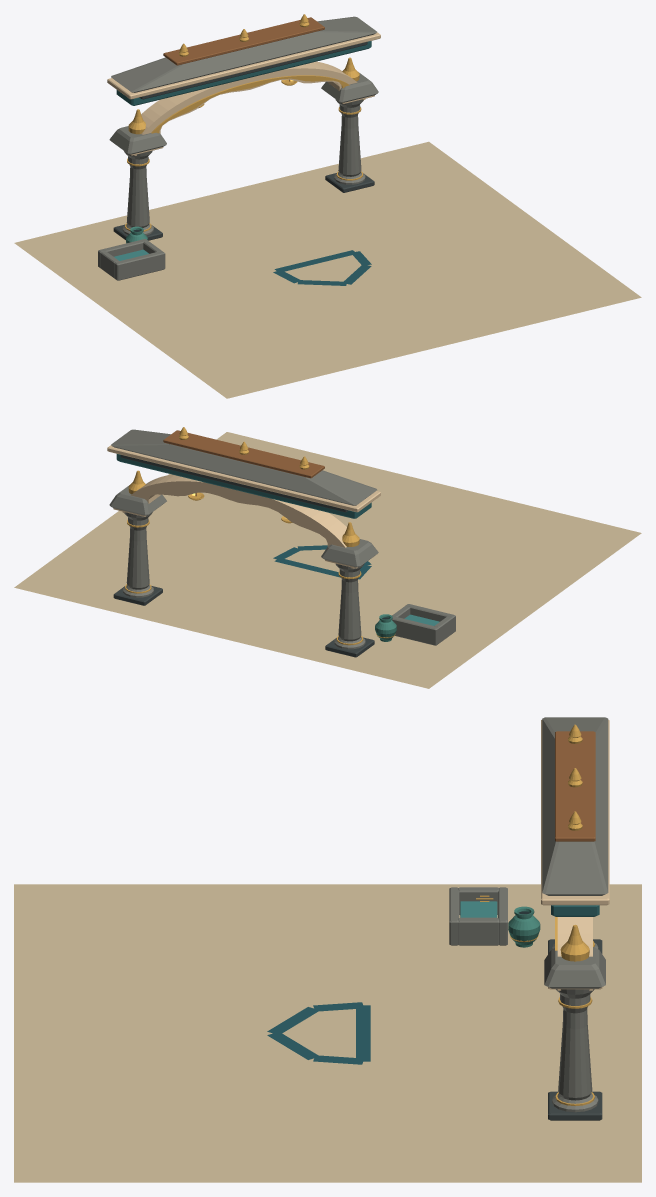
File: room-def.glb
3 views of the same model, one above another, from view 1: azimuth 30°, elevation 25°; view 2: azimuth 150°, elevation 25°; view 3: azimuth 270°, elevation 25° (orthographic). The views are drawn at different scales.
Visible parts, largest first — view 1: Surveyed floor · room-def, Water gate · aqueduct arcade · granite, Water gate · aqueduct arcade · limestone, Water gate · aqueduct arcade · bronze, Water gate · aqueduct arcade · brass, Water gate · gauge cistern · granite, Water gate · aqueduct arcade · basalt, Water gate · aqueduct arcade · teal; view 2: Surveyed floor · room-def, Water gate · aqueduct arcade · granite, Water gate · aqueduct arcade · limestone, Water gate · aqueduct arcade · bronze, Water gate · gauge cistern · granite, Water gate · aqueduct arcade · basalt, Water gate · aqueduct arcade · teal, Water gate · aqueduct arcade · brass, Water gate · gauge cistern · patina; view 3: Surveyed floor · room-def, Water gate · aqueduct arcade · granite, Water gate · aqueduct arcade · bronze, Water gate · gauge cistern · granite, Water gate · aqueduct arcade · limestone, Water gate · aqueduct arcade · brass, Water gate · aqueduct arcade · basalt, Water gate · gauge cistern · patina.
Boxes of the visible parts, left/top/right/bottom form: Surveyed floor · room-def: left=14, top=141, right=641, bottom=398; Water gate · aqueduct arcade · granite: left=109, top=16, right=378, bottom=235; Water gate · aqueduct arcade · limestone: left=107, top=32, right=380, bottom=155; Water gate · aqueduct arcade · bronze: left=163, top=17, right=324, bottom=81; Water gate · aqueduct arcade · brass: left=125, top=14, right=363, bottom=231; Water gate · gauge cistern · granite: left=98, top=239, right=165, bottom=280; Water gate · aqueduct arcade · basalt: left=113, top=42, right=374, bottom=240; Water gate · aqueduct arcade · teal: left=116, top=41, right=371, bottom=105; Surveyed floor · room-def: left=14, top=432, right=641, bottom=688; Water gate · aqueduct arcade · granite: left=109, top=429, right=378, bottom=649; Water gate · aqueduct arcade · limestone: left=107, top=445, right=380, bottom=568; Water gate · aqueduct arcade · bronze: left=163, top=430, right=324, bottom=496; Water gate · gauge cistern · granite: left=392, top=604, right=455, bottom=645; Water gate · aqueduct arcade · basalt: left=113, top=455, right=374, bottom=657; Water gate · aqueduct arcade · teal: left=116, top=454, right=371, bottom=518; Water gate · aqueduct arcade · brass: left=125, top=427, right=363, bottom=645; Water gate · gauge cistern · patina: left=375, top=614, right=396, bottom=641; Surveyed floor · room-def: left=14, top=884, right=641, bottom=1182; Water gate · aqueduct arcade · granite: left=542, top=717, right=608, bottom=1112; Water gate · aqueduct arcade · bronze: left=555, top=731, right=595, bottom=841; Water gate · gauge cistern · granite: left=449, top=887, right=507, bottom=945; Water gate · aqueduct arcade · limestone: left=541, top=720, right=609, bottom=990; Water gate · aqueduct arcade · brass: left=555, top=724, right=594, bottom=1106; Water gate · aqueduct arcade · basalt: left=548, top=939, right=602, bottom=1120; Water gate · gauge cistern · patina: left=508, top=906, right=540, bottom=947.
Size of the model in its own units: 18 by 7.45 by 16.
